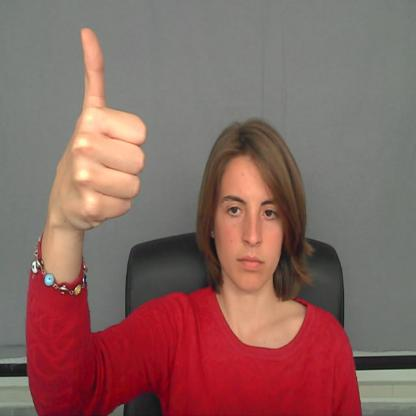thumbs-up: (58, 21, 148, 229)
